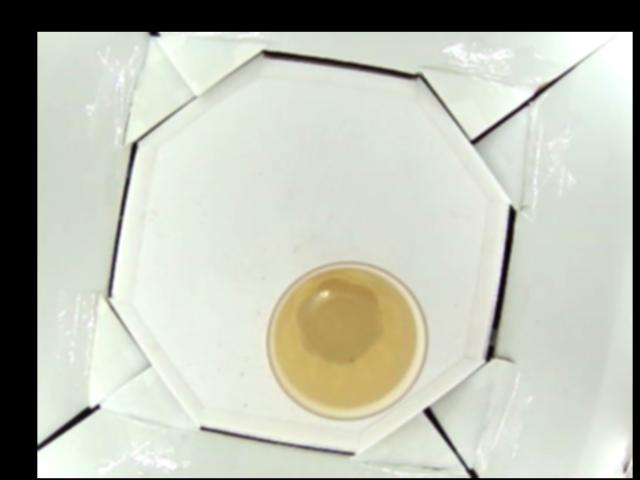Cup: (265, 258, 428, 422)
